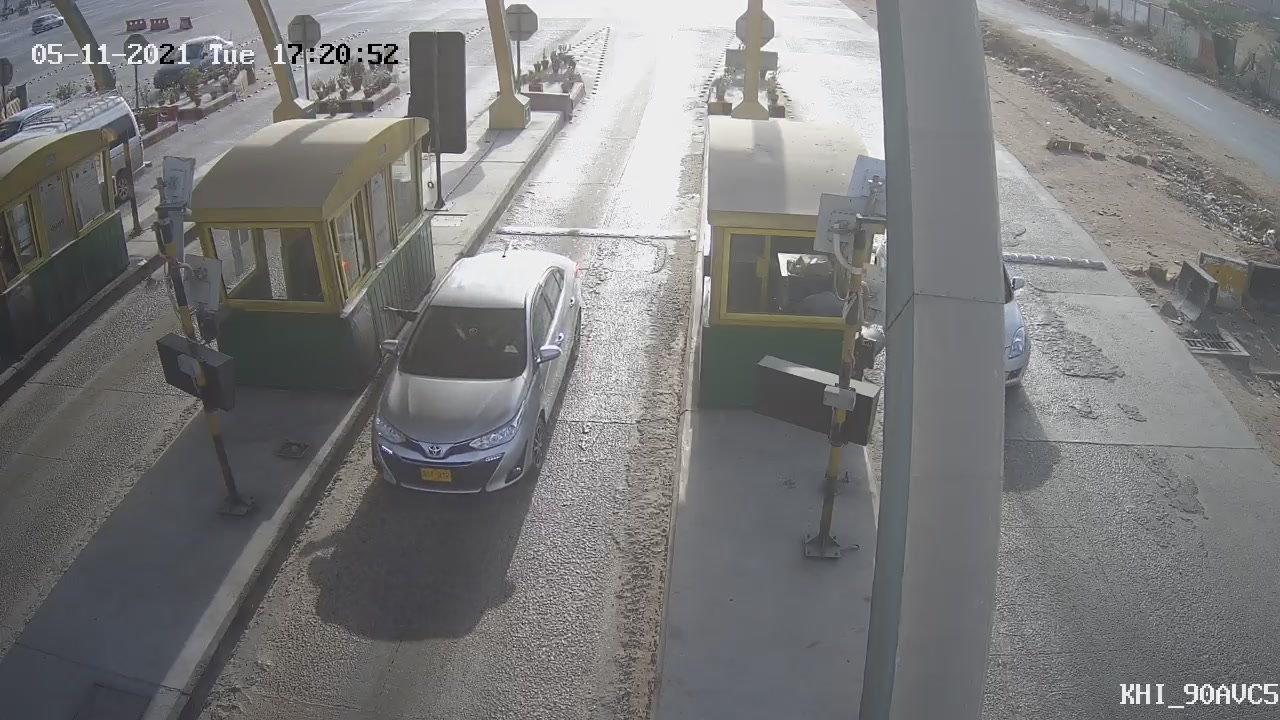F1: (346, 227, 604, 517)
